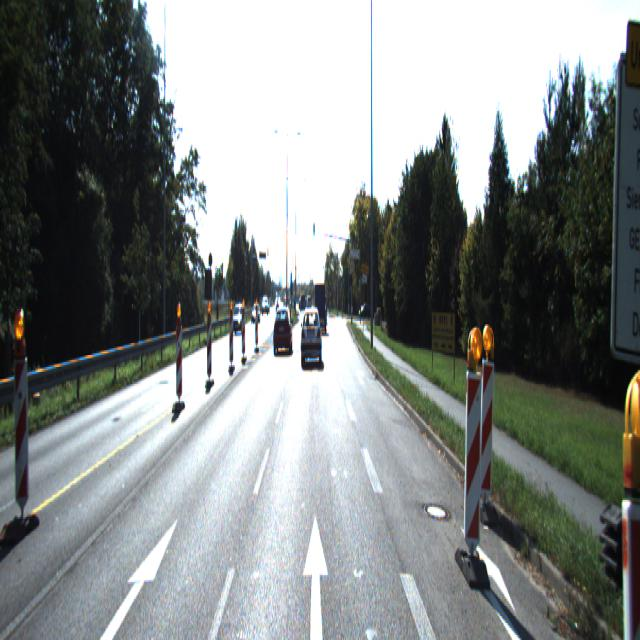Car: (300, 311, 322, 365), (273, 310, 292, 358), (315, 285, 326, 335), (231, 303, 245, 337)
